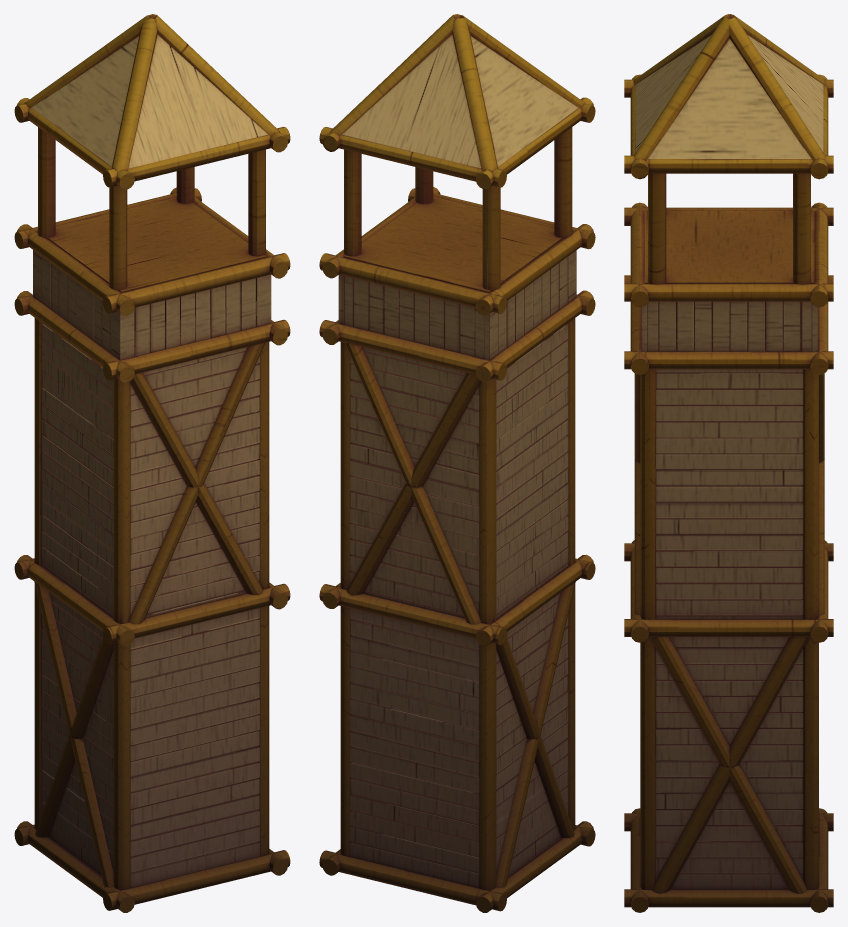
Rendered from watchtower.fbx.
3 renders of one model, left to right at view 1: azimuth 30°, elevation 25°; view 2: azimuth 150°, elevation 25°; view 3: azimuth 270°, elevation 25°, orthographic.
Parts seen in each view (by area): view 1: watch_tower, capanna; view 2: watch_tower, capanna; view 3: watch_tower, capanna.
Boxes of the visible parts, bbox=[...] form: watch_tower: bbox=[14, 187, 290, 912]; capanna: bbox=[14, 14, 290, 290]; watch_tower: bbox=[319, 187, 595, 912]; capanna: bbox=[319, 14, 595, 290]; watch_tower: bbox=[624, 202, 833, 912]; capanna: bbox=[624, 14, 833, 284].
Bounding box in the file's own units: 952 × 4279 × 952.
